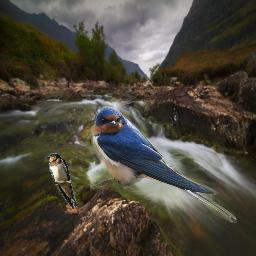Swallow: (90, 106, 237, 223), (45, 153, 79, 209)
